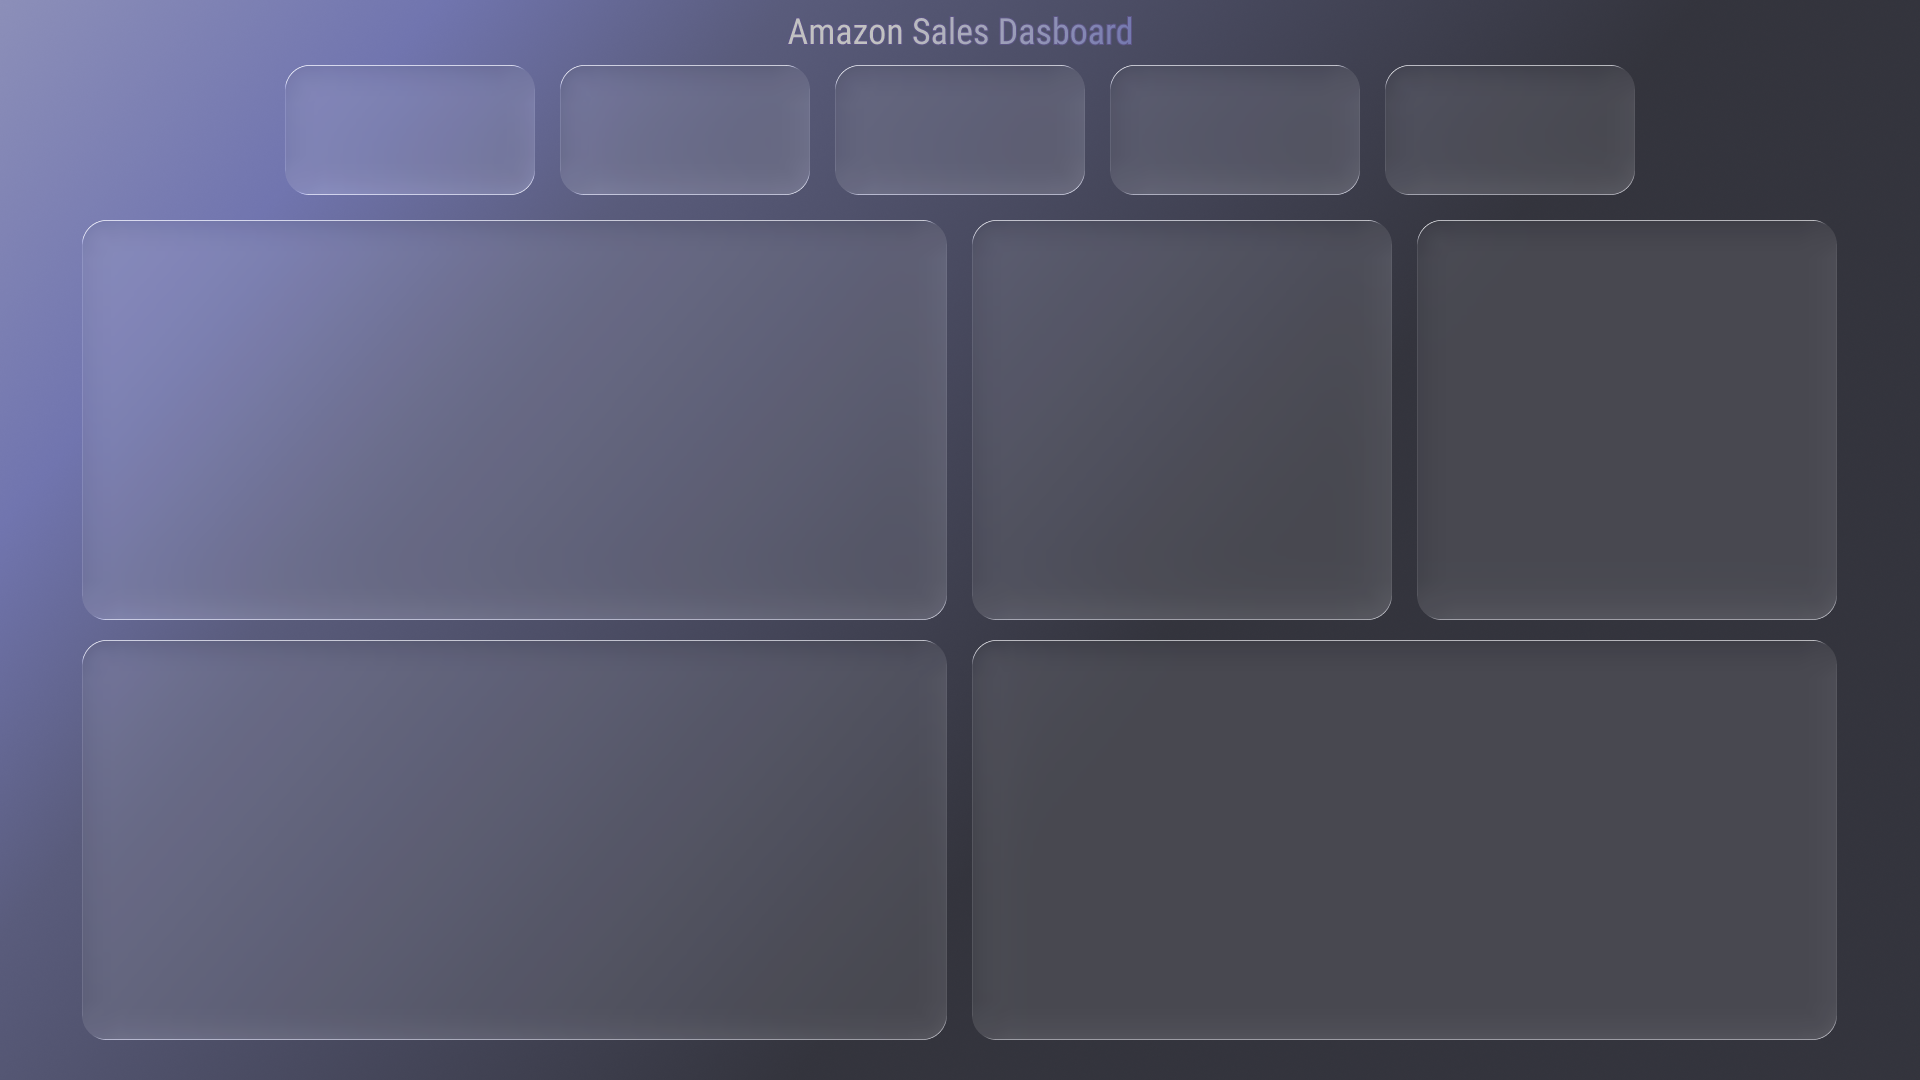

This screenshot's page, from the dashboard's own definition file:
{"tool":"powerbi","page":{"name":"Page 1","canvas":[1280,720],"ordinal":0},"visuals":[{"type":"card","fields":{"Values":["amazon_sales.Total Revenue"]},"box":[191.2,42.5,165,85],"z":0},{"type":"card","fields":{"Values":["amazon_sales.Total Orders"]},"box":[374.4,42.5,165,85],"z":1000},{"type":"card","fields":{"Values":["amazon_sales.Total Quantity"]},"box":[557.5,42.5,165,85],"z":2000},{"type":"card","fields":{"Values":["amazon_sales.Completion Rate"]},"box":[923.8,42.5,165,85],"z":3000},{"type":"card","fields":{"Values":["amazon_sales.Average Order Value"]},"box":[741.2,42.5,165,85],"z":4000},{"type":"barChart","fields":{"Category":["amazon_sales.Category"],"Y":["amazon_sales.Total Revenue"]},"box":[651.2,426.2,571.2,262.5],"z":5000},{"type":"lineChart","fields":{"Category":["amazon_sales.Date.Variation.Date Hierarchy.Month","amazon_sales.Date.Variation.Date Hierarchy.Day"],"Y":["amazon_sales.Total Revenue"]},"box":[355.7,145.2,568.6,263.4],"z":6000},{"type":"columnChart","fields":{"Category":["amazon_sales.Product"],"Y":["amazon_sales.Total Revenue"]},"box":[57.5,426.2,570,262.5],"z":7000},{"type":"donutChart","fields":{"Category":["amazon_sales.Status"],"Y":["amazon_sales.Total Orders"]},"box":[946.2,145,276.2,263.8],"z":8000},{"type":"advancedSlicerVisual","title":"Month","fields":{"Values":["amazon_sales.Month Name"]},"box":[57.8,145.2,274.5,120.6],"z":9000},{"type":"advancedSlicerVisual","title":"Category","fields":{"Values":["amazon_sales.Category"]},"box":[57.8,288,274.5,120.6],"z":10000}]}

Visuals, with their boxes in screenshot pixels (x1, y1, x2, y2), scaled from the page's 1280x720 canvas onto the 1920x1080 screenshot:
card - amazon_sales.Total Revenue: [left=287, top=64, right=534, bottom=191]
card - amazon_sales.Total Orders: [left=562, top=64, right=809, bottom=191]
card - amazon_sales.Total Quantity: [left=836, top=64, right=1084, bottom=191]
card - amazon_sales.Completion Rate: [left=1386, top=64, right=1633, bottom=191]
card - amazon_sales.Average Order Value: [left=1112, top=64, right=1359, bottom=191]
barChart - amazon_sales.Category x amazon_sales.Total Revenue: [left=977, top=639, right=1834, bottom=1033]
lineChart - amazon_sales.Date.Variation.Date Hierarchy.Month x amazon_sales.Date.Variation.Date Hierarchy.Day: [left=534, top=218, right=1386, bottom=613]
columnChart - amazon_sales.Product x amazon_sales.Total Revenue: [left=86, top=639, right=941, bottom=1033]
donutChart - amazon_sales.Status x amazon_sales.Total Orders: [left=1419, top=218, right=1834, bottom=613]
"Month" advancedSlicerVisual: [left=87, top=218, right=498, bottom=399]
"Category" advancedSlicerVisual: [left=87, top=432, right=498, bottom=613]
